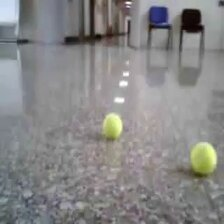tennis: (190, 142, 217, 175), (102, 112, 122, 140)
